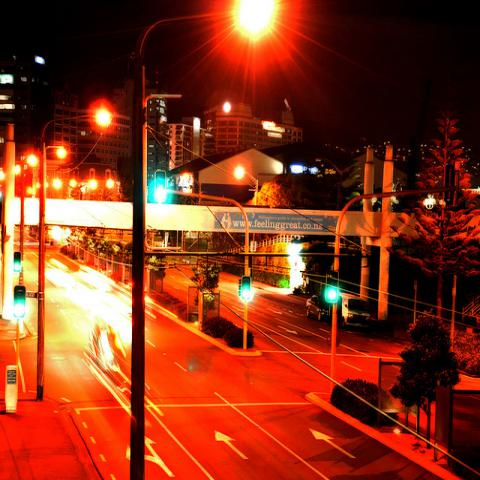car: (306, 294, 333, 321)
truck: (340, 292, 371, 332)
